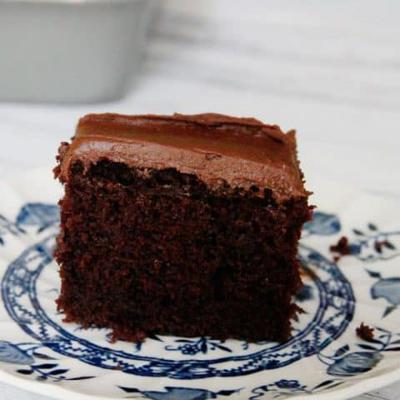cake: (54, 105, 311, 358)
